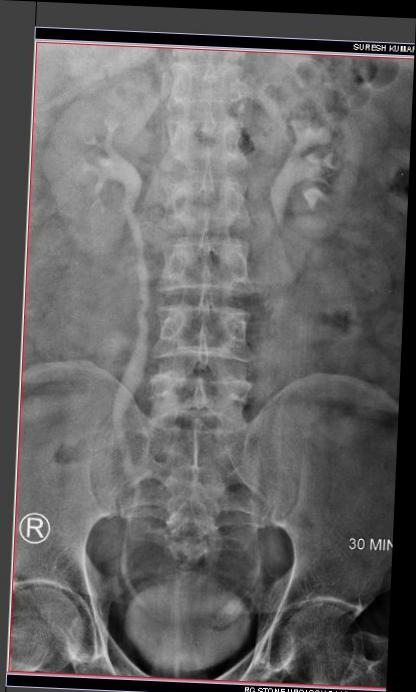bladder: (89, 591, 247, 691)
left kidney: (238, 32, 370, 238)
right kidney: (1, 72, 120, 256)
vertebrae: (136, 91, 237, 163)
